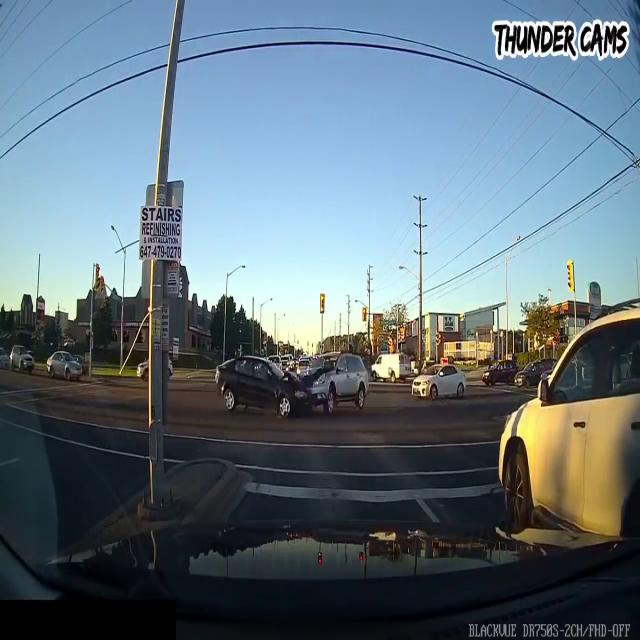accident: (209, 327, 375, 434)
